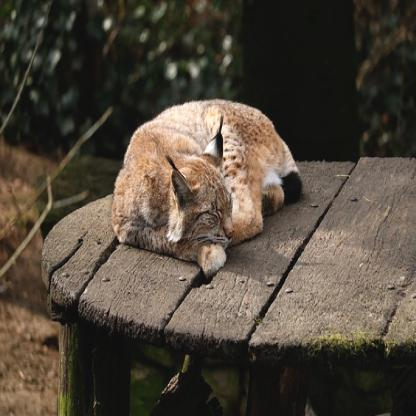cat: (110, 96, 308, 279)
